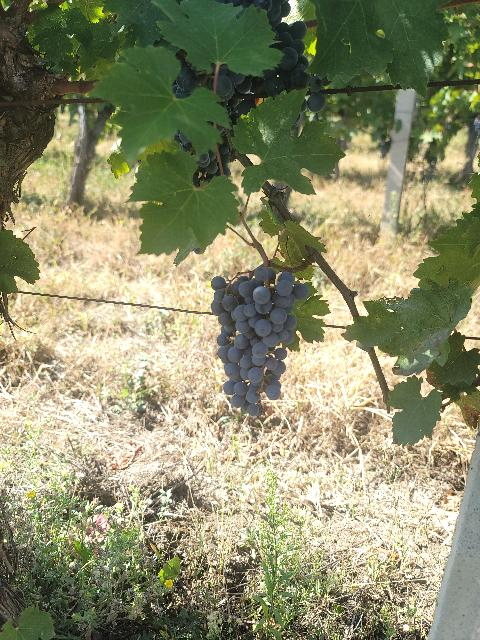grapes: (211, 265, 310, 418), (262, 254, 265, 256)
